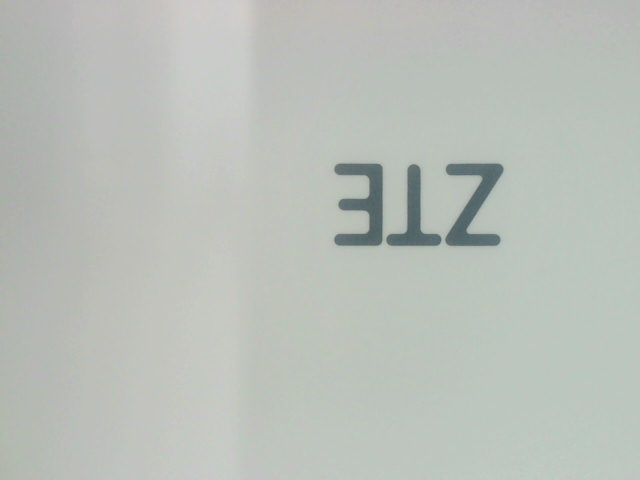AN_ZTE: (332, 159, 506, 249)
